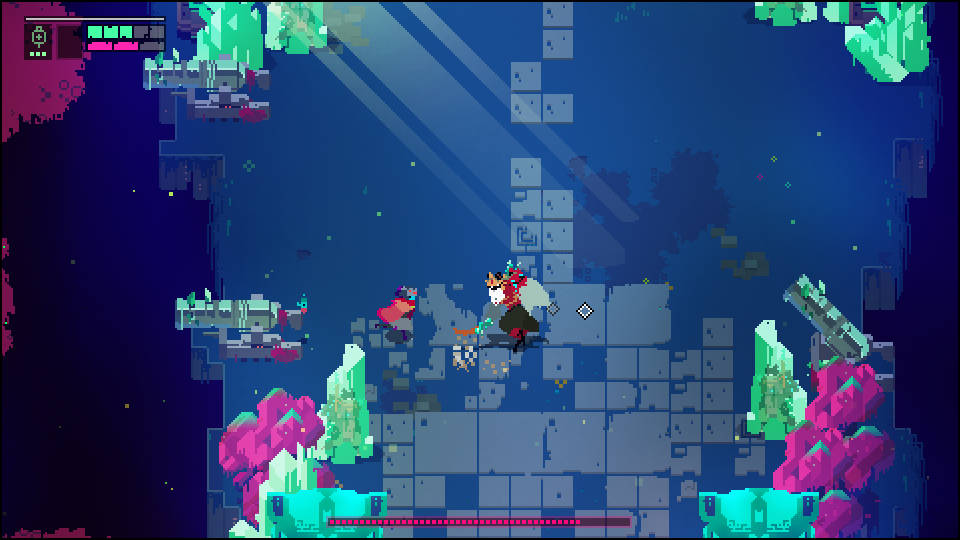hanged_man: (473, 257, 555, 353)
player: (379, 279, 416, 339)
